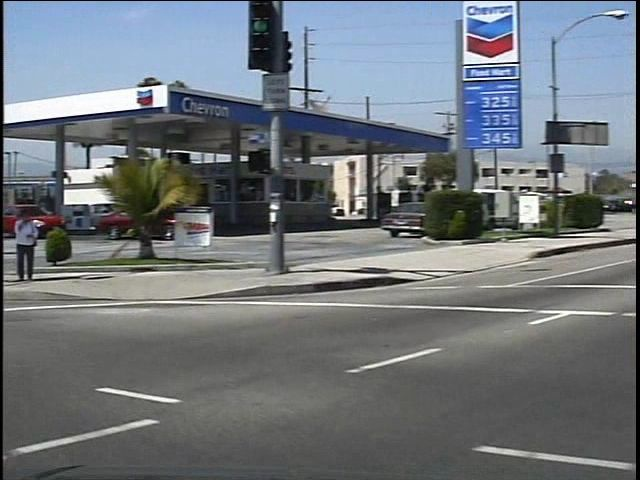person: (9, 203, 38, 287)
